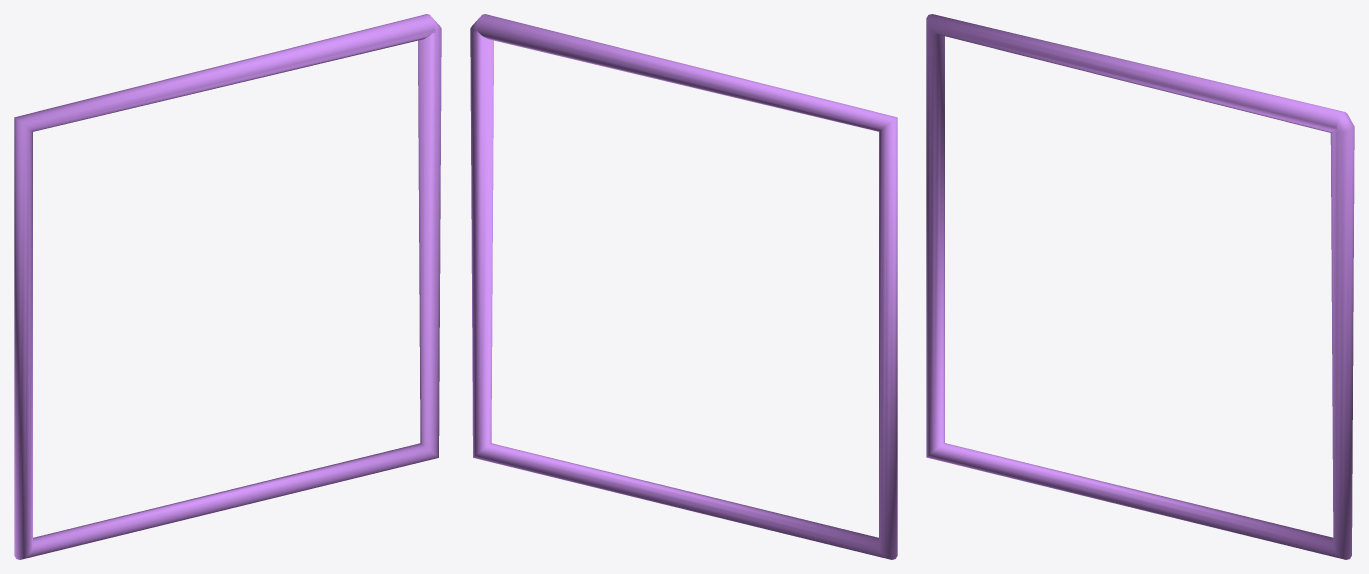
Rendered from frame-DHA92a5A.glb.
The picture shows the model from 3 angles, left to right: view 1: azimuth 30°, elevation 25°; view 2: azimuth 150°, elevation 25°; view 3: azimuth 330°, elevation 25°; orthographic projection.
Parts seen in each view (by area): view 1: R3D_frame_Body_0; view 2: R3D_frame_Body_0; view 3: R3D_frame_Body_0.
Boxes of the visible parts, box(x1,y1,x2,y2) form: R3D_frame_Body_0: box(14, 14, 441, 559); R3D_frame_Body_0: box(470, 14, 897, 559); R3D_frame_Body_0: box(926, 14, 1354, 559).
Size of the model in its own units: 3.69 by 3.69 by 0.18.
